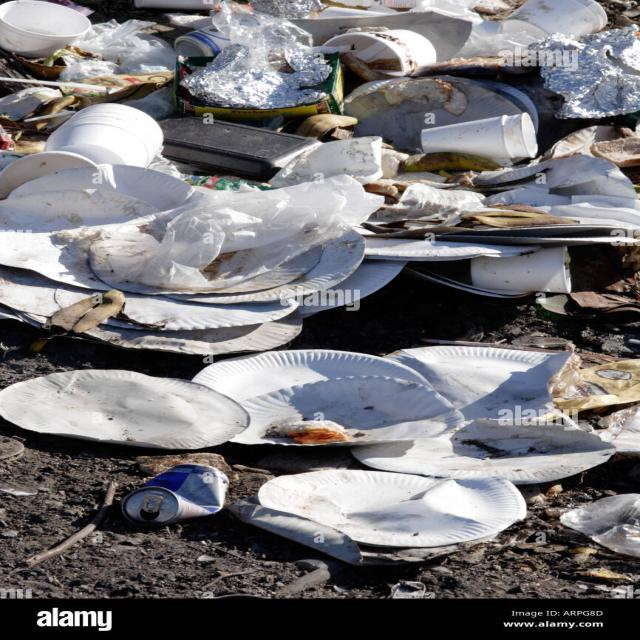giay: (81, 232, 405, 356), (257, 471, 526, 548), (0, 370, 248, 450), (225, 496, 495, 567), (352, 419, 616, 485), (231, 376, 465, 446), (0, 189, 157, 290), (387, 346, 572, 421), (192, 350, 432, 402), (7, 163, 194, 211), (0, 266, 96, 327), (563, 451, 566, 453)
kim_loai: (120, 465, 228, 526)
nhom: (179, 0, 332, 108), (531, 24, 640, 118)
nhua: (89, 175, 383, 292), (561, 495, 640, 558), (370, 182, 486, 221)
xop: (1, 104, 163, 198), (421, 112, 537, 159), (0, 0, 89, 57), (472, 246, 572, 293)
